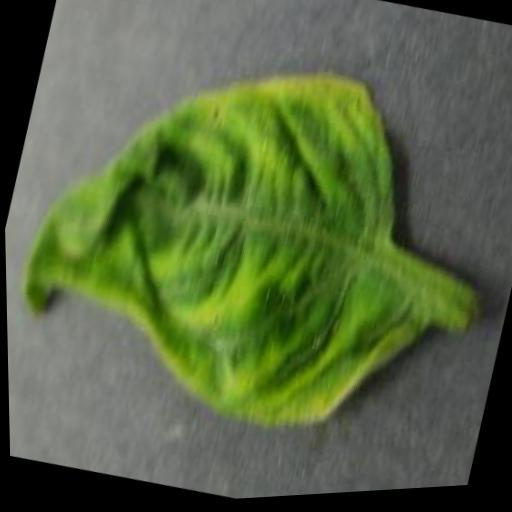Yellow Leaf Curl Virus: (1, 7, 482, 468)
